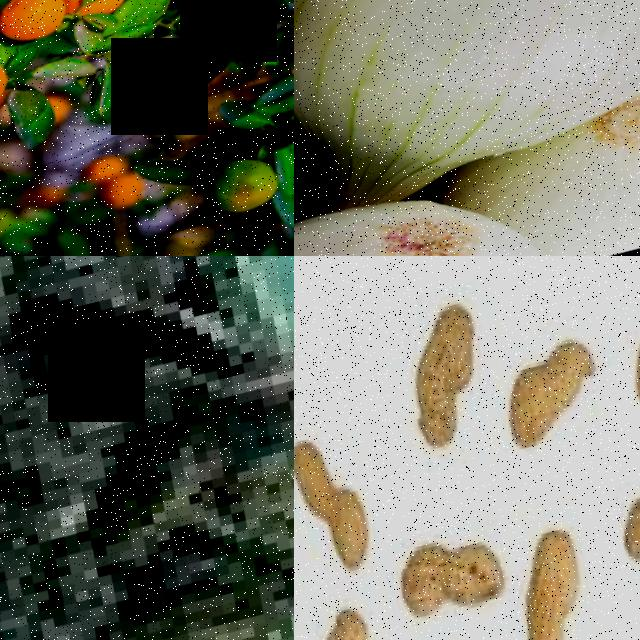onion: (294, 0, 640, 191), (501, 55, 640, 256), (294, 163, 558, 256)
orange: (205, 150, 291, 222), (0, 0, 77, 47), (58, 0, 137, 22), (0, 49, 19, 120)
peanuts: (388, 291, 510, 457), (494, 333, 623, 461), (294, 420, 388, 583), (499, 521, 619, 640), (391, 521, 523, 629), (294, 596, 405, 640), (610, 270, 640, 419)
